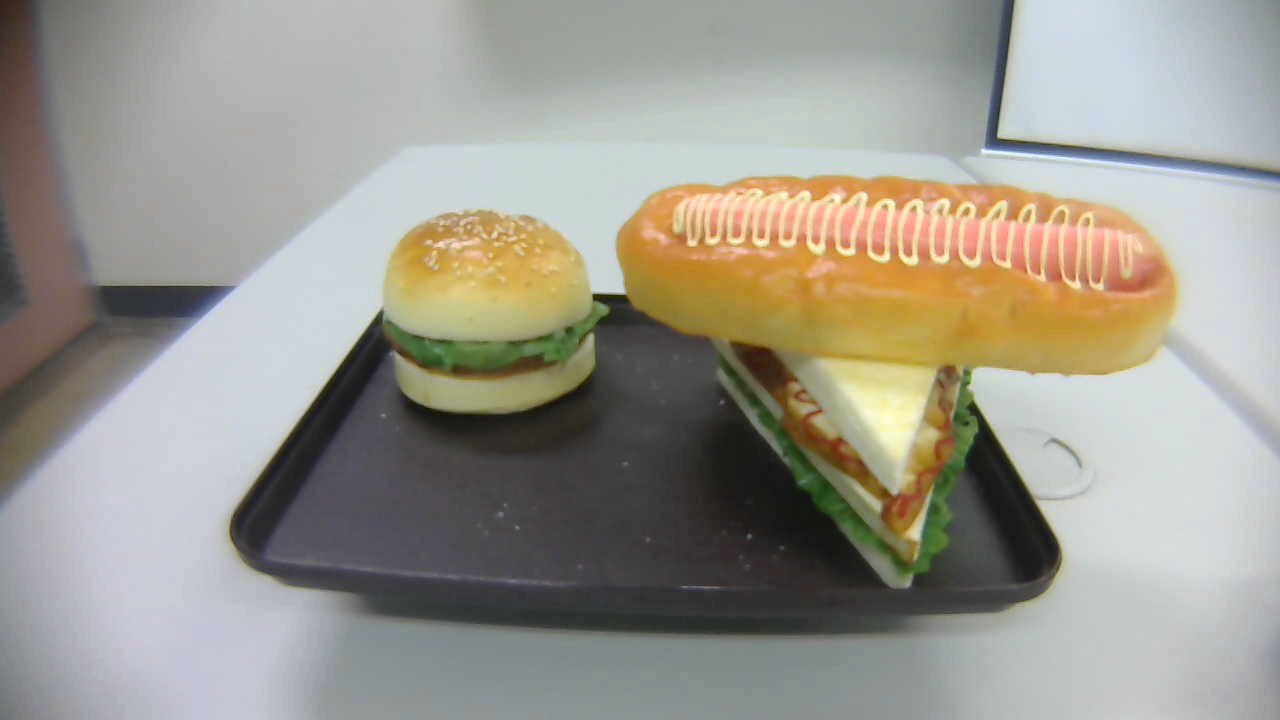hamburger: (382, 210, 611, 413)
hot dog: (614, 173, 1181, 376)
sandwich: (709, 275, 980, 599)
